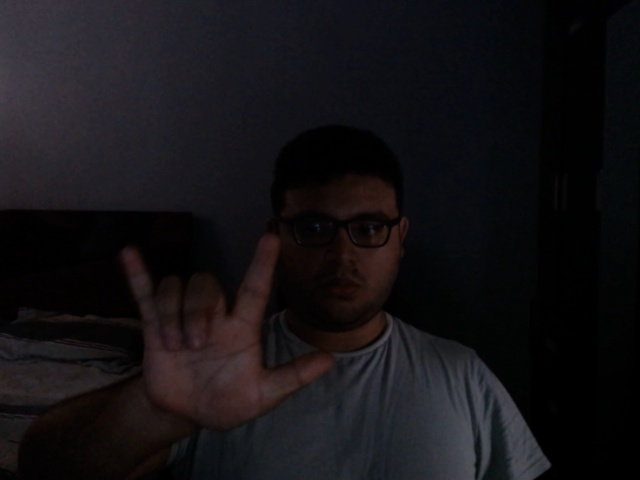I love you: (112, 235, 337, 437)
